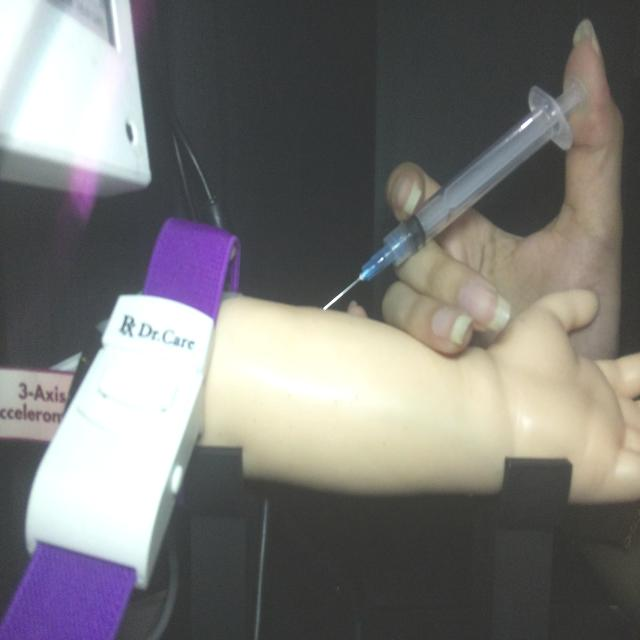28 degrees: (321, 72, 588, 313)
